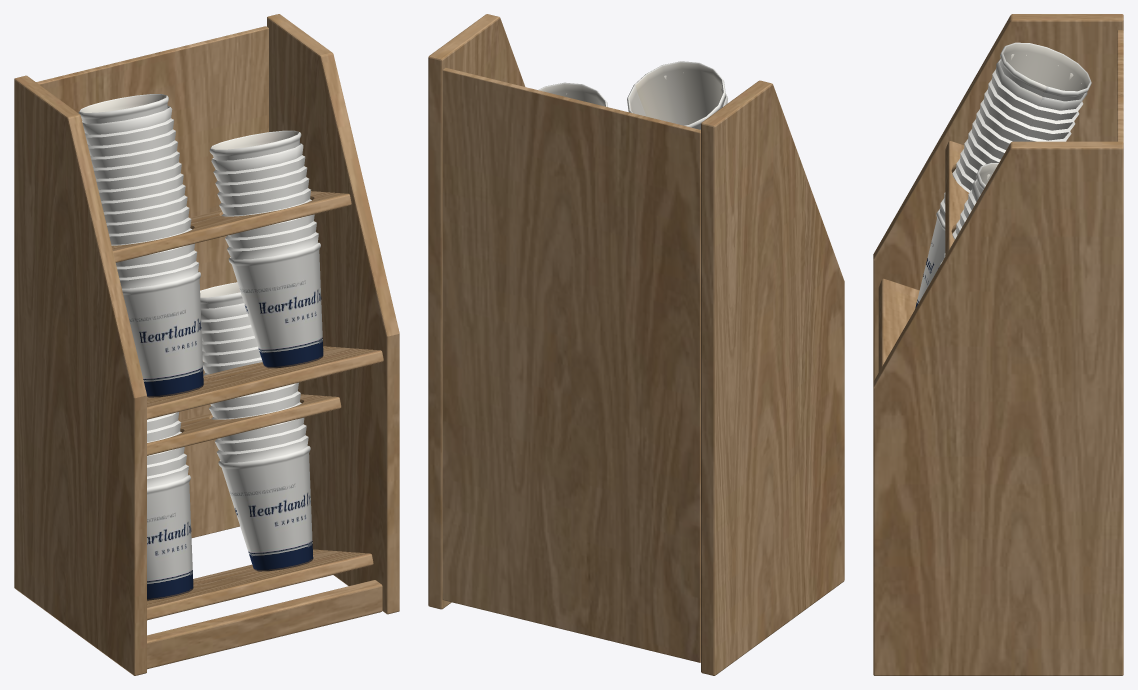
The model's file is hotel-cup-rack.glb.
The picture shows the model from 3 angles, left to right: view 1: azimuth 30°, elevation 25°; view 2: azimuth 150°, elevation 25°; view 3: azimuth 270°, elevation 25°; orthographic projection. The views are drawn at different scales.
Parts seen in each view (by area): view 1: oak_veneer, stack_2, stack_1, stack_3, stack_0, take_cup003, take_cup002, take_cup001; view 2: oak_veneer, take_cup002, take_cup003; view 3: oak_veneer, stack_2, take_cup002, stack_3.
Part boxes in pixels (x1,y1,x2,y2): oak_veneer: (14, 14, 399, 675); stack_2: (82, 106, 203, 397); stack_1: (200, 303, 313, 571); stack_3: (211, 143, 323, 368); stack_0: (147, 412, 193, 600); take_cup003: (209, 130, 301, 160); take_cup002: (78, 94, 168, 123); take_cup001: (200, 282, 243, 308); oak_veneer: (428, 14, 844, 675); take_cup002: (627, 61, 725, 129); take_cup003: (538, 82, 607, 106); oak_veneer: (873, 14, 1123, 675); stack_2: (915, 54, 1087, 308); take_cup002: (999, 42, 1091, 101); stack_3: (940, 174, 990, 264).
Size of the model in its own units: 0.3 by 0.55 by 0.236.
Materials: 2 (2 with a texture image).
